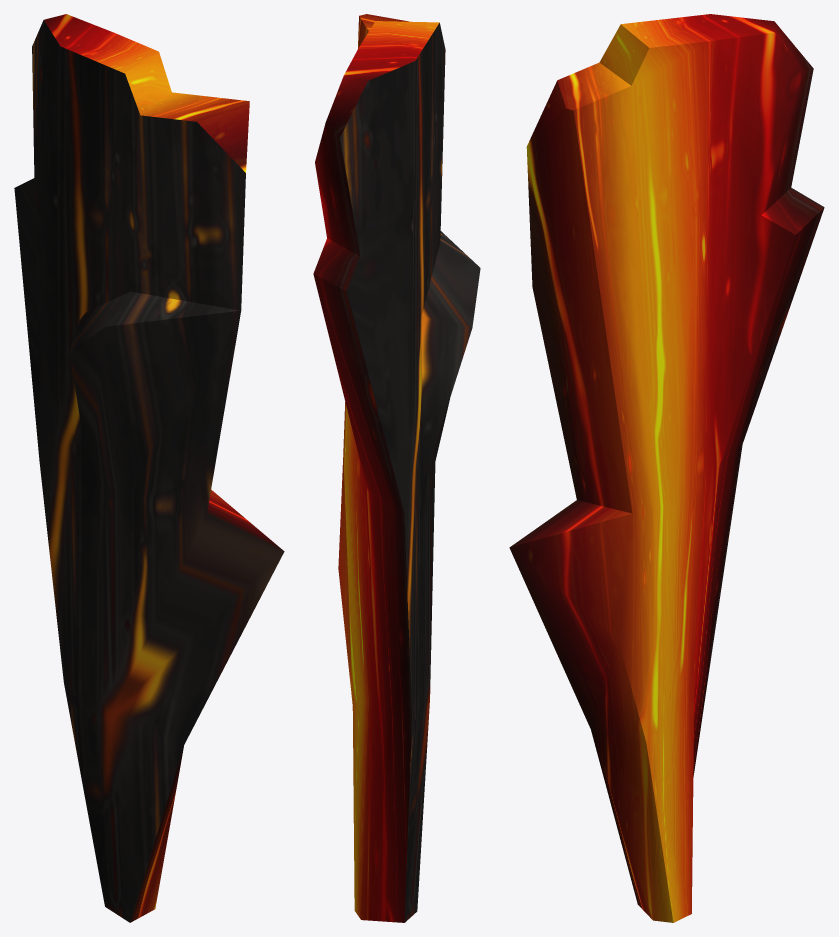
The model's file is p_mesh_hvs_burntforest_bark_part02.fbx.
The picture shows the model from 3 angles, left to right: view 1: azimuth 30°, elevation 25°; view 2: azimuth 150°, elevation 25°; view 3: azimuth 270°, elevation 25°; orthographic projection. The views are drawn at different scales.
Parts seen in each view (by area): view 1: p_mesh_hvs_burntforest_bark_part02; view 2: p_mesh_hvs_burntforest_bark_part02; view 3: p_mesh_hvs_burntforest_bark_part02.
Boxes of the visible parts, <box> form: p_mesh_hvs_burntforest_bark_part02: <box>14,14,284,922</box>; p_mesh_hvs_burntforest_bark_part02: <box>313,14,480,922</box>; p_mesh_hvs_burntforest_bark_part02: <box>509,14,824,922</box>.
Bounding box in the file's own units: 0.8447 × 4.67 × 1.53.
Materials: 1 (1 with a texture image).
